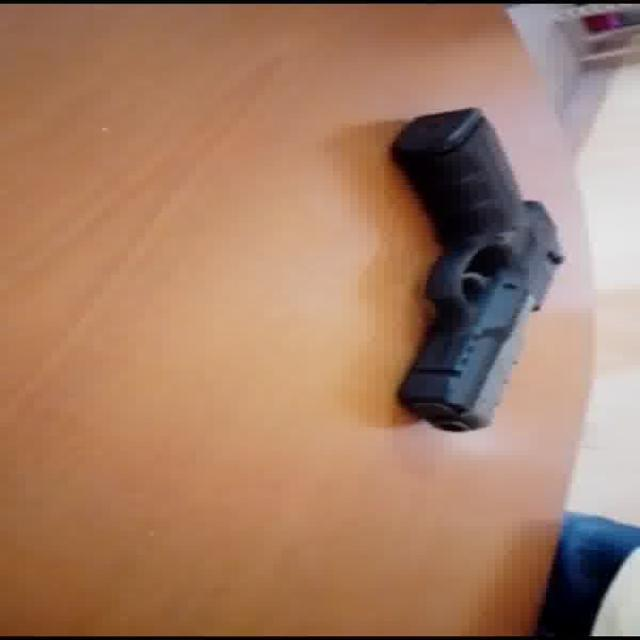weapon: (389, 106, 566, 432)
